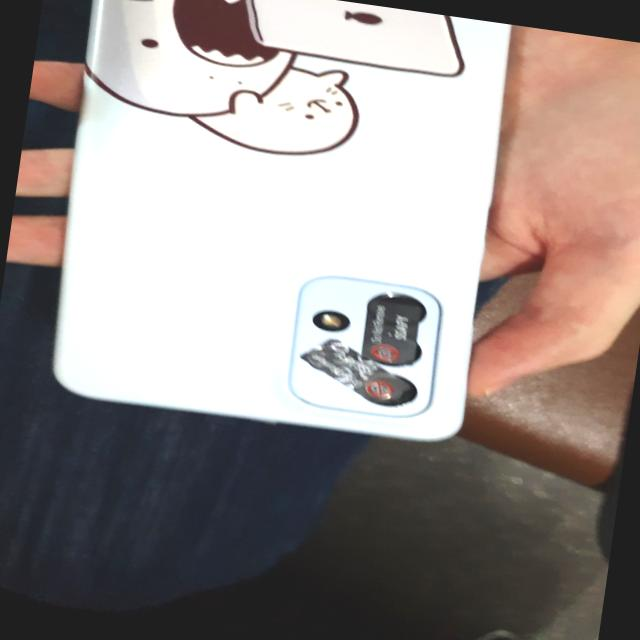removed_sticker: (294, 336, 421, 410)
sticker: (33, 0, 523, 451), (358, 294, 425, 366)
